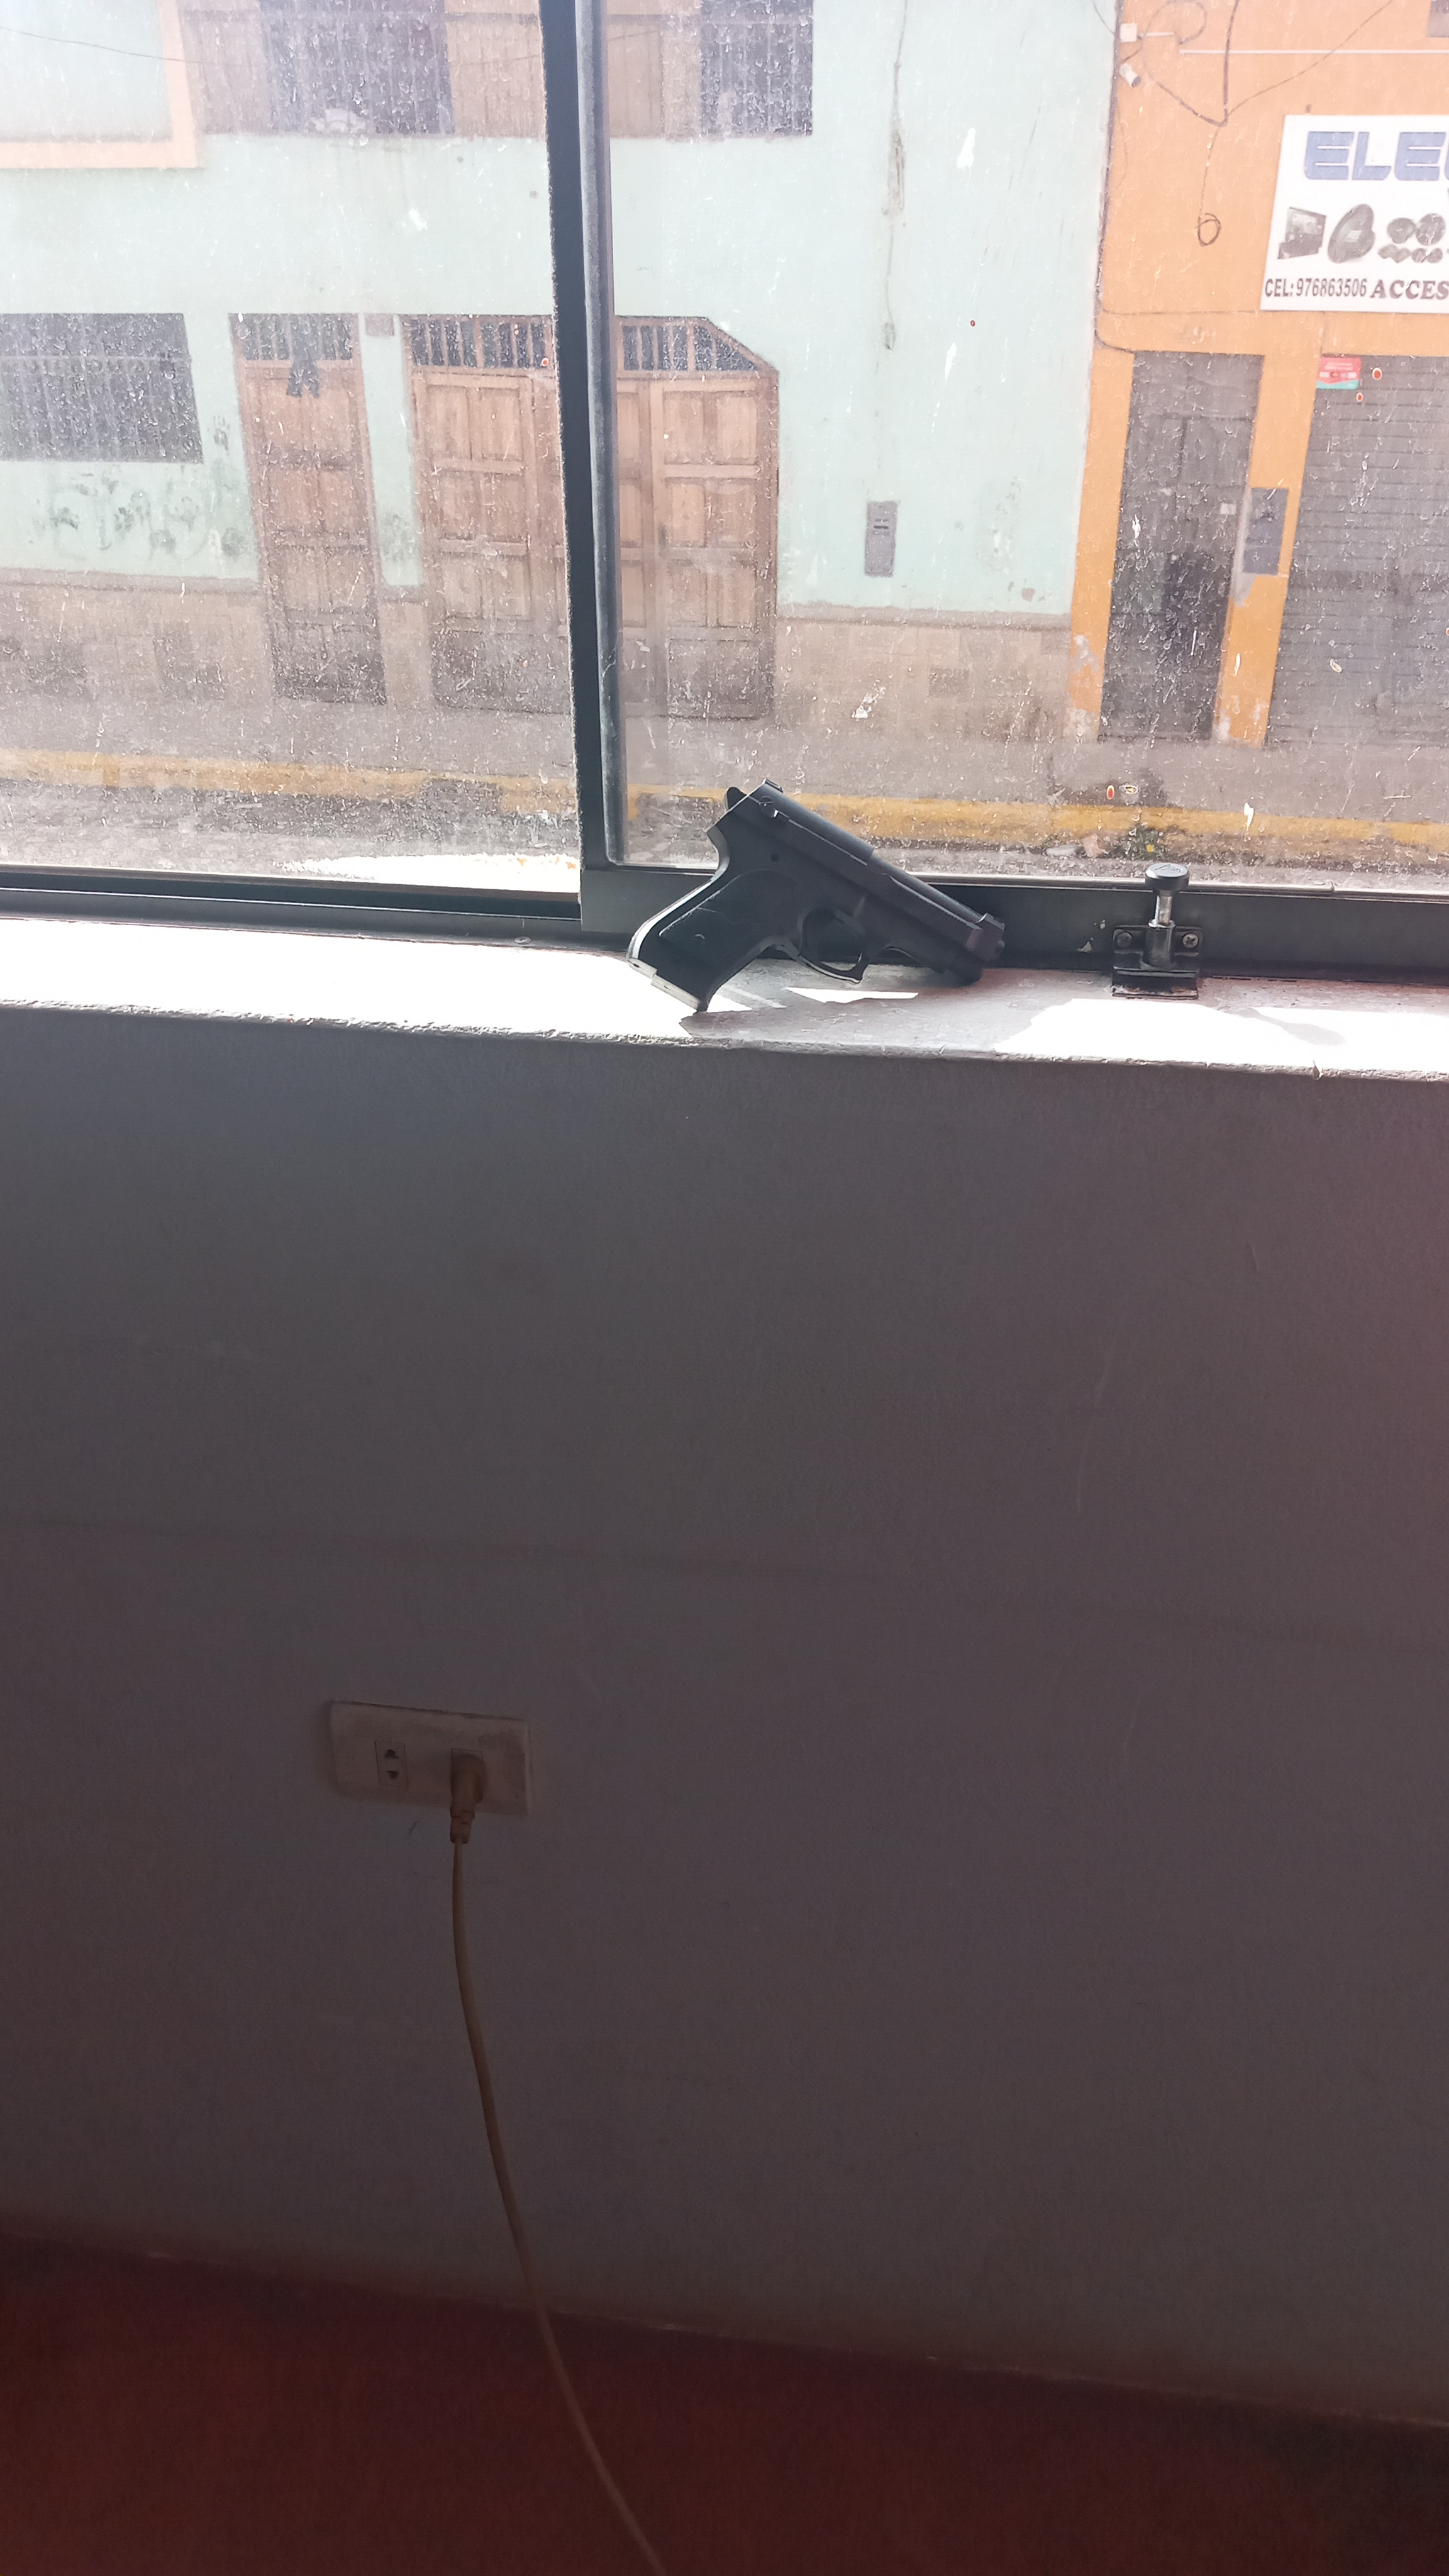Arma: (663, 812, 985, 993)
